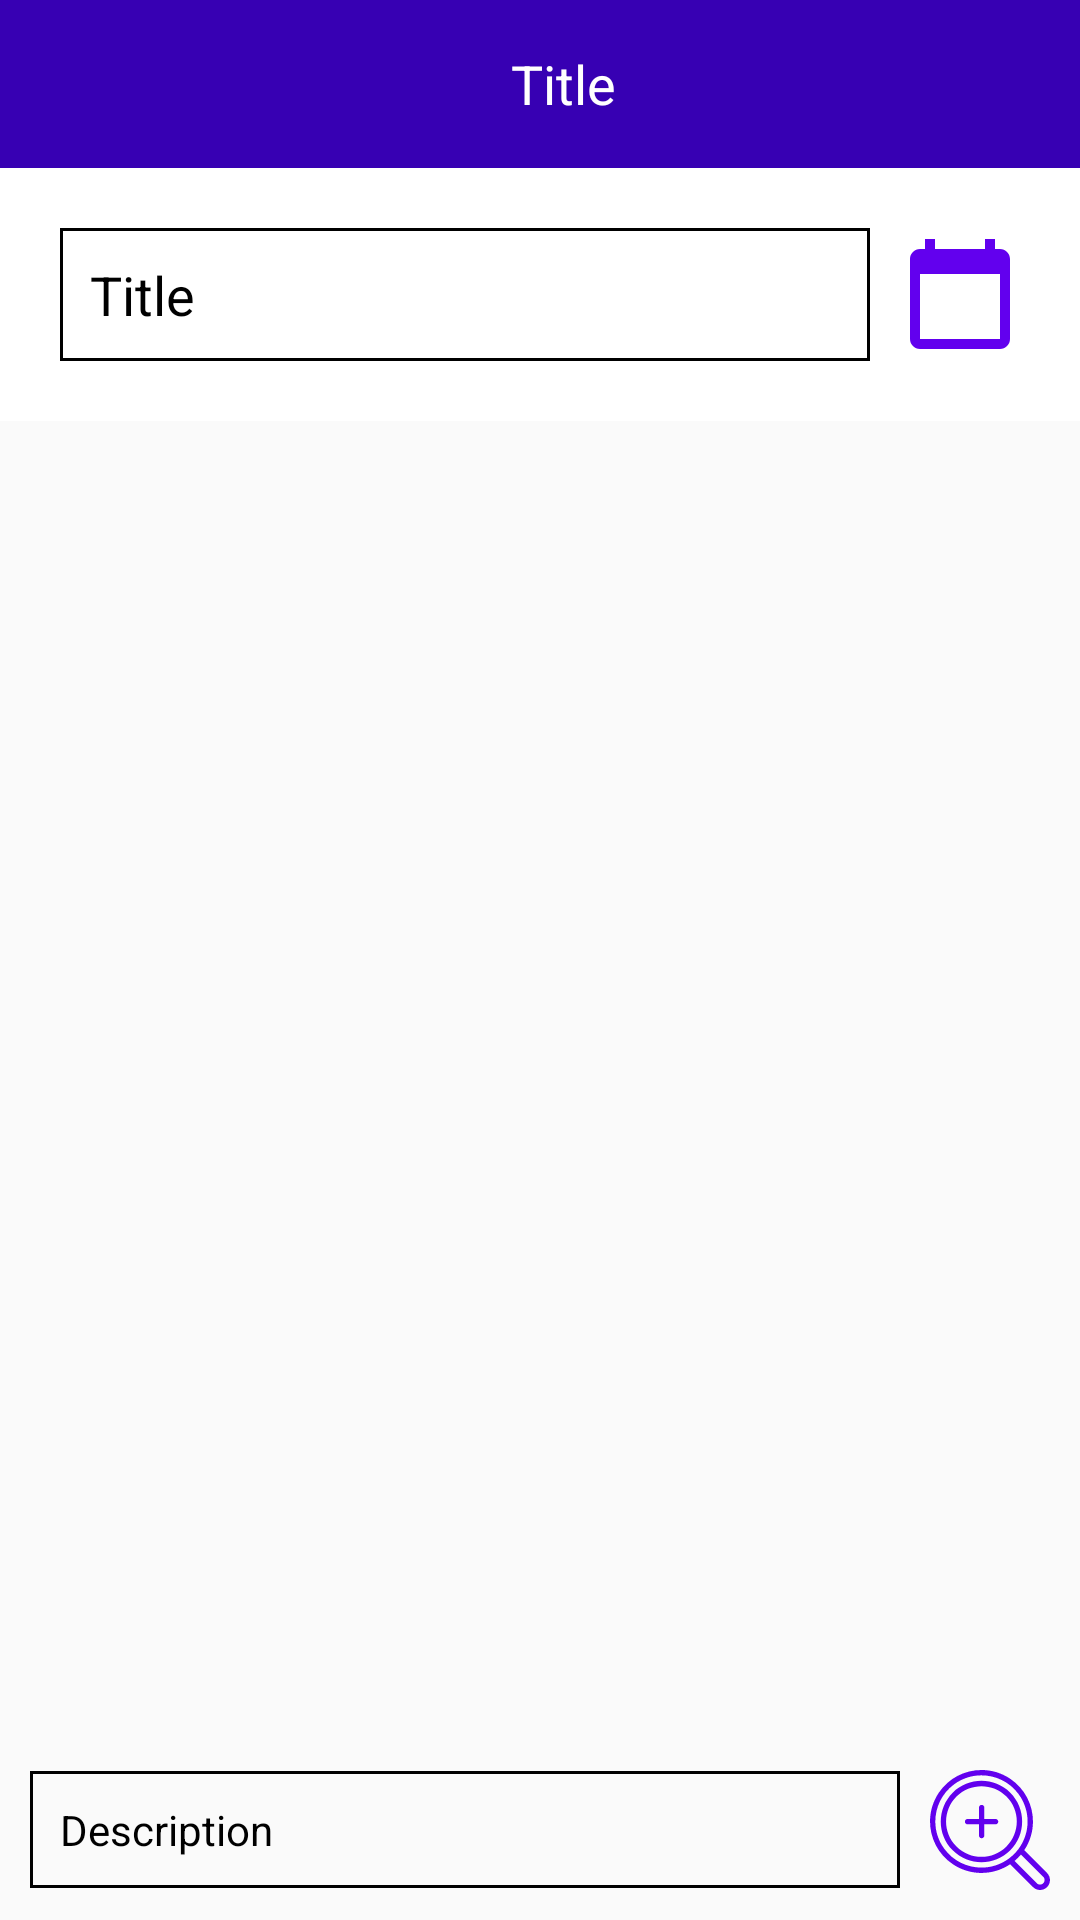

Icon click points for this 1080px x 1920px phone screenshot, format (x,y):
zoom in: (990,1830)
